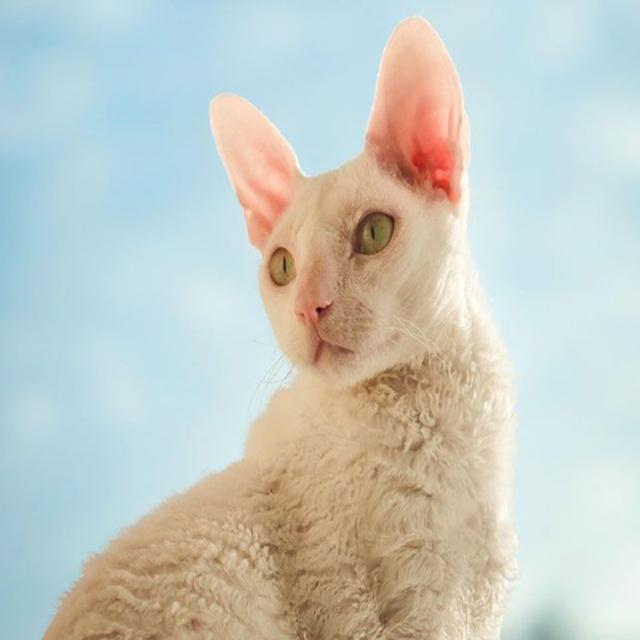Cornish Rex: (17, 9, 522, 640)
